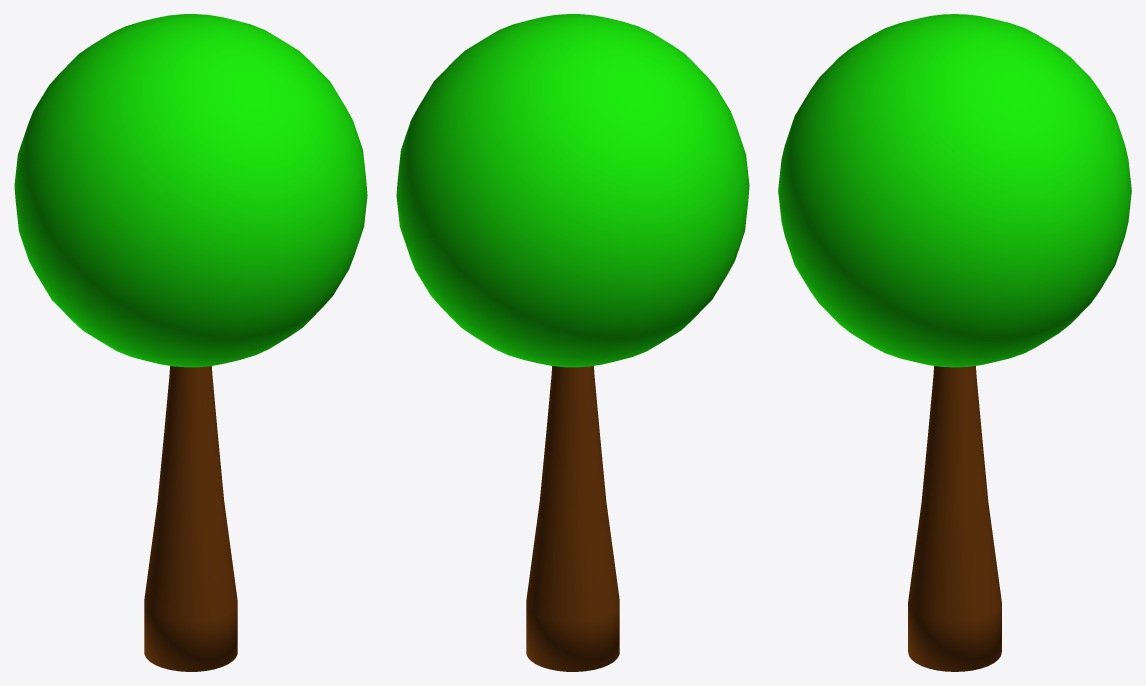
The model's file is Tree1.fbx.
The picture shows the model from 3 angles, left to right: view 1: azimuth 30°, elevation 25°; view 2: azimuth 150°, elevation 25°; view 3: azimuth 270°, elevation 25°; orthographic projection.
Visible parts, largest first — view 1: Sphere, Cylinder; view 2: Sphere, Cylinder; view 3: Sphere, Cylinder.
Part boxes in pixels (x1=…): Sphere: x1=14, y1=14, x2=367, y2=367; Cylinder: x1=144, y1=366, x2=237, y2=671; Sphere: x1=396, y1=14, x2=749, y2=367; Cylinder: x1=526, y1=366, x2=619, y2=671; Sphere: x1=778, y1=14, x2=1131, y2=367; Cylinder: x1=908, y1=366, x2=1001, y2=671.
Size of the model in its own units: 740 by 1435 by 740.
